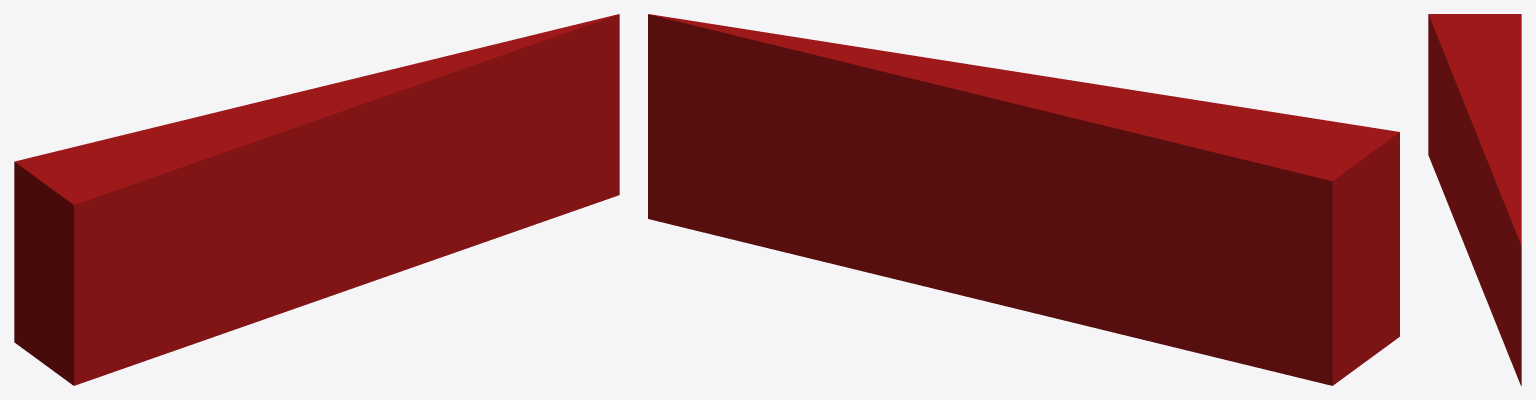
File: robocon_009.obj
The picture shows the model from 3 angles, left to right: view 1: azimuth 30°, elevation 25°; view 2: azimuth 150°, elevation 25°; view 3: azimuth 270°, elevation 25°; orthographic projection. The views are drawn at different scales.
Size of the model in its own units: 3.5 by 1 by 0.5966.
